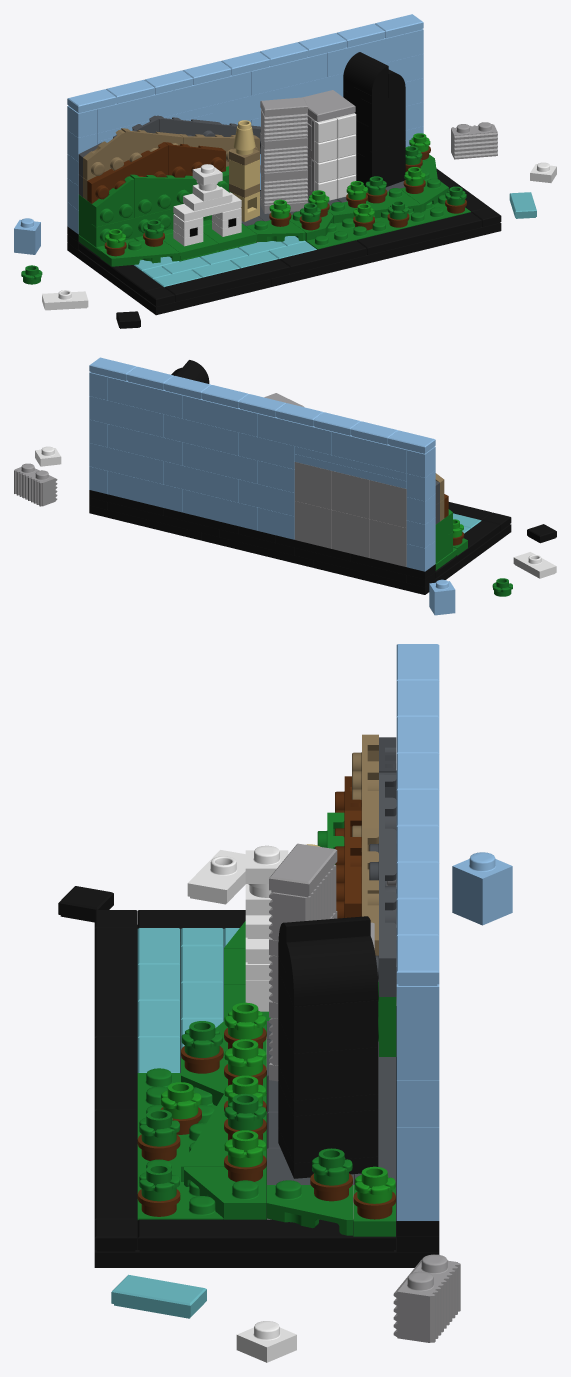
File: GuildDenver.glb
3 renders of one model, top to bottom at view 1: azimuth 30°, elevation 25°; view 2: azimuth 150°, elevation 25°; view 3: azimuth 270°, elevation 25°, orthographic. The views are drawn at different scales.
Visible parts, largest first — view 1: Part.98, Part.181, Part.182, Part.173, Part.73, Part.74, Part.170, Part.83, Part.100, Part.193, Part.72, Part.176 (+76 smaller); view 2: Part.73, Part.83, Part.74, Part.72, Part.79, Part.81, Part.76, Part.82, Part.75, Part.77, Part.78, Part.80 (+48 smaller); view 3: Part.180, Part.101, Part.22, Part.181, Part.182, Part.58, Part.59, Part.193, Part.57, Part.98, Part.178, Part.191 (+55 smaller).
Boxes of the visible parts, x1=… form: Part.98: x1=305, y1=194, x2=470, y2=249; Part.181: x1=164, y1=259, x2=290, y2=301; Part.182: x1=356, y1=212, x2=481, y2=254; Part.173: x1=130, y1=174, x2=197, y2=217; Part.73: x1=250, y1=53, x2=327, y2=95; Part.74: x1=174, y1=71, x2=250, y2=114; Part.170: x1=87, y1=142, x2=168, y2=203; Part.83: x1=97, y1=90, x2=174, y2=133; Part.100: x1=67, y1=242, x2=270, y2=315; Part.193: x1=451, y1=122, x2=497, y2=159; Part.72: x1=327, y1=34, x2=404, y2=76; Part.176: x1=164, y1=142, x2=225, y2=177; Part.73: x1=182, y1=395, x2=257, y2=436; Part.83: x1=332, y1=431, x2=406, y2=473; Part.74: x1=257, y1=413, x2=331, y2=454; Part.72: x1=108, y1=377, x2=182, y2=418; Part.79: x1=182, y1=489, x2=257, y2=530; Part.81: x1=182, y1=442, x2=257, y2=483; Part.76: x1=108, y1=424, x2=182, y2=465; Part.82: x1=164, y1=414, x2=238, y2=455; Part.75: x1=89, y1=396, x2=163, y2=437; Part.77: x1=108, y1=471, x2=182, y2=512; Part.78: x1=89, y1=443, x2=163, y2=484; Part.80: x1=164, y1=461, x2=238, y2=502; Part.180: x1=137, y1=1219, x2=395, y2=1251; Part.101: x1=94, y1=1143, x2=439, y2=1267; Part.22: x1=286, y1=936, x2=378, y2=1006; Part.181: x1=94, y1=928, x2=137, y2=1037; Part.182: x1=94, y1=1110, x2=137, y2=1219; Part.58: x1=278, y1=1018, x2=378, y2=1100; Part.59: x1=278, y1=971, x2=378, y2=1053; Part.193: x1=393, y1=1254, x2=460, y2=1342; Part.57: x1=278, y1=1081, x2=378, y2=1163; Part.98: x1=137, y1=1068, x2=223, y2=1219; Part.178: x1=369, y1=772, x2=396, y2=996; Part.191: x1=452, y1=852, x2=512, y2=925.
Bounding box in the file's own units: 218 × 60.76 × 84.31.
13 materials, 1 textured.
